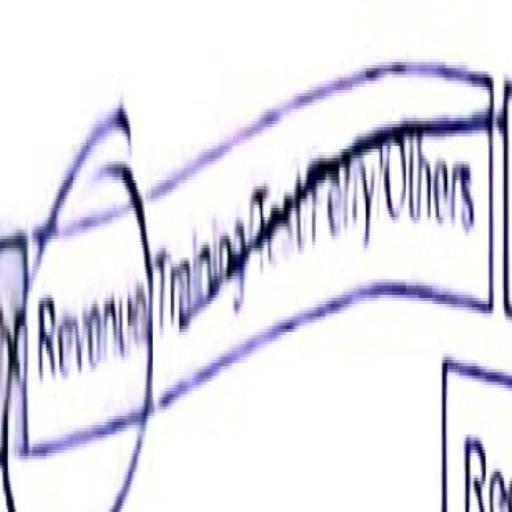check: (26, 124, 150, 511)
